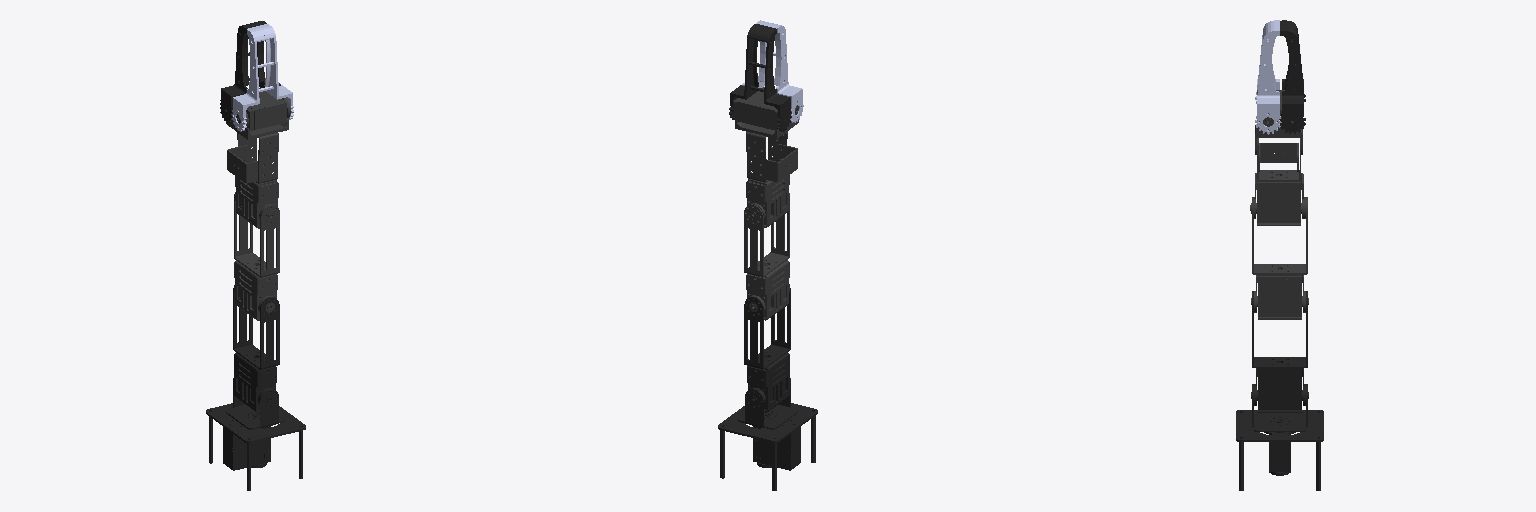
robot.urdf — robot_arm_description:
<?xml version="1.0" encoding="utf-8" ?>
<!-- This URDF was automatically created by SolidWorks to URDF Exporter! Originally created by Stephen Brawner (brawner@gmail.com) 
     Commit Version: 1.6.0-4-g7f85cfe  Build Version: 1.6.7995.38578
     For more information, please see http://wiki.ros.org/sw_urdf_exporter -->
<robot name="robot_arm_description">
    <link name="arm_base_link">
        <visual>
            <origin xyz="0 0 0" rpy="0 0 0" />
            <geometry>
                <mesh filename="package://robot_arm_description/meshes/arm_base_link.STL" />
            </geometry>
            <material name="">
                <color rgba="0.2 0.2 0.2 1" />
            </material>
        </visual>
        <collision>
            <origin xyz="0 0 0" rpy="0 0 0" />
            <geometry>
                <mesh filename="package://robot_arm_description/meshes/arm_base_link.STL" />
            </geometry>
        </collision>

    </link>
    <link name="arm_link1">
        <visual>
            <origin xyz="0 0 0" rpy="0 0 0" />
            <geometry>
                <mesh filename="package://robot_arm_description/meshes/arm_link1.STL" />
            </geometry>
            <material name="">
                <color rgba="0.2 0.2 0.2 1" />
            </material>
        </visual>
        <collision>
            <origin xyz="0 0 0" rpy="0 0 0" />
            <geometry>
                <mesh filename="package://robot_arm_description/meshes/arm_link1.STL" />
            </geometry>
        </collision>

    </link>
    <joint name="joint1" type="revolute">
        <origin xyz="0 0 0.0525" rpy="0 0 -0.0017827" />
        <parent link="arm_base_link" />
        <child link="arm_link1" />
        <axis xyz="0 0 -1" />
        <limit lower="-1.57" upper="1.57" effort="0" velocity="0" />
    </joint>
    <link name="arm_link2">
        <visual>
            <origin xyz="0 0 0" rpy="0 0 0" />
            <geometry>
                <mesh filename="package://robot_arm_description/meshes/arm_link2.STL" />
            </geometry>
            <material name="">
                <color rgba="0.2 0.2 0.2 1" />
            </material>
        </visual>
        <collision>
            <origin xyz="0 0 0" rpy="0 0 0" />
            <geometry>
                <mesh filename="package://robot_arm_description/meshes/arm_link2.STL" />
            </geometry>
        </collision>
    </link>
    <joint name="joint2" type="revolute">
        <origin xyz="0 0 0.02525" rpy="-1.5708 0 0" />
        <parent link="arm_link1" />
        <child link="arm_link2" />
        <axis xyz="-0.0017827 0 1" />
        <limit lower="-1.57" upper="1.57" effort="0" velocity="0" />
    </joint>
    <link name="arm_link3">
        <visual>
            <origin xyz="0 0 0" rpy="0 0 0" />
            <geometry>
                <mesh filename="package://robot_arm_description/meshes/arm_link3.STL" />
            </geometry>
            <material name="">
                <color rgba="0.298039215686275 0.298039215686275 0.298039215686275 1" />
            </material>
        </visual>
        <collision>
            <origin xyz="0 0 0" rpy="0 0 0" />
            <geometry>
                <mesh filename="package://robot_arm_description/meshes/arm_link3.STL" />
            </geometry>
        </collision>
        
<inertial>
            <mass value="0.1" />
            <inertia ixx="0.03" iyy="0.03" izz="0.03" ixy="0.0" ixz="0.0" iyz="0.0" />
        </inertial>

    </link>
    <joint name="joint3" type="revolute">
        <origin xyz="0.0005 -0.09315 0" rpy="0 0 0" />
        <parent link="arm_link2" />
        <child link="arm_link3" />
        <axis xyz="-0.0017827 0 1" />
        <limit lower="-2.355" upper="2.355" effort="0" velocity="0" />
    </joint>
    <link name="arm_link4">
        <visual>
            <origin xyz="0 0 0" rpy="0 0 0" />
            <geometry>
                <mesh filename="package://robot_arm_description/meshes/arm_link4.STL" />
            </geometry>
            <material name="">
                <color rgba="0.298039215686275 0.298039215686275 0.298039215686275 1" />
            </material>
        </visual>
        <collision>
            <origin xyz="0 0 0" rpy="0 0 0" />
            <geometry>
                <mesh filename="package://robot_arm_description/meshes/arm_link4.STL" />
            </geometry>
        </collision>
    </link>
    <joint name="joint4" type="revolute">
        <origin xyz="0.00050137 -0.09315 -0.00076869" rpy="0 -0.0017827 0" />
        <parent link="arm_link3" />
        <child link="arm_link4" />
        <axis xyz="0 0 1" />
        <limit lower="-2.355" upper="2.355" effort="0" velocity="0" />
    </joint>
    <link name="right_gripper_finger">
        <visual>
            <origin xyz="0 0 0" rpy="0 0 0" />
            <geometry>
                <mesh filename="package://robot_arm_description/meshes/right_gripper_finger.STL" />
            </geometry>
            <material name="">
                <color rgba="0.792156862745098 0.819607843137255 0.933333333333333 1" />
            </material>
        </visual>
        <collision>
            <origin xyz="0 0 0" rpy="0 0 0" />
            <geometry>
                <mesh filename="package://robot_arm_description/meshes/right_gripper_finger.STL" />
            </geometry>
        </collision>

    </link>
    <joint name="right_finger_joint" type="revolute">
        <origin xyz="0.000346699936491016 -0.0976630936564846 -0.00965000000000641" rpy="1.5707963267949 0 -1.57079632679491" />
        <parent link="arm_link4" />
        <child link="right_gripper_finger" />
        <axis xyz="0 0 1" />
        <limit lower="-0.785" upper="0" effort="0" velocity="1.57" />
    </joint>
    <link name="left_gripper_finger">
        <visual>
            <origin xyz="0 0 0" rpy="0 0 0" />
            <geometry>
                <mesh filename="package://robot_arm_description/meshes/left_gripper_finger.STL" />
            </geometry>
            <material name="">
                <color rgba="0.2 0.2 0.2 1" />
            </material>
        </visual>
        <collision>
            <origin xyz="0 0 0" rpy="0 0 0" />
            <geometry>
                <mesh filename="package://robot_arm_description/meshes/left_gripper_finger.STL" />
            </geometry>
        </collision>

    </link>
    <joint name="left_finger_joint" type="revolute">
        <origin xyz="0.000380830718078186 -0.0976500000000001 0.0121999999999936" rpy="1.5707963267949 0 -1.5707963267949" />
        <parent link="arm_link4" />
        <child link="left_gripper_finger" />
        <axis xyz="0 0 -1" />
        <limit lower="-0.785" upper="0" effort="0" velocity="1.57" />
    </joint>
    <link name="grasp_link" />
    <joint name="grasp_joint" type="fixed">
        <origin xyz="0 -0.18 0" rpy="0 0 0" />
        <parent link="arm_link4" />
        <child link="grasp_link" />
    </joint>
    
<transmission name="trans_joint1">
        <type>transmission_interface/SimpleTransmission</type>
        <joint name="joint1">
            <hardwareInterface>hardware_interface/EffortJointInterface</hardwareInterface>
        </joint>
        <actuator name="joint1_motor">
            <hardwareInterface>hardware_interface/EffortJointInterface</hardwareInterface>
            <mechanicalReduction>1</mechanicalReduction>
        </actuator>
    </transmission>
    <transmission name="trans_joint2">
        <type>transmission_interface/SimpleTransmission</type>
        <joint name="joint2">
            <hardwareInterface>hardware_interface/EffortJointInterface</hardwareInterface>
        </joint>
        <actuator name="joint2_motor">
            <hardwareInterface>hardware_interface/EffortJointInterface</hardwareInterface>
            <mechanicalReduction>1</mechanicalReduction>
        </actuator>
    </transmission>
    <transmission name="trans_joint3">
        <type>transmission_interface/SimpleTransmission</type>
        <joint name="joint3">
            <hardwareInterface>hardware_interface/EffortJointInterface</hardwareInterface>
        </joint>
        <actuator name="joint3_motor">
            <hardwareInterface>hardware_interface/EffortJointInterface</hardwareInterface>
            <mechanicalReduction>1</mechanicalReduction>
        </actuator>
    </transmission>
    <transmission name="trans_joint4">
        <type>transmission_interface/SimpleTransmission</type>
        <joint name="joint4">
            <hardwareInterface>hardware_interface/EffortJointInterface</hardwareInterface>
        </joint>
        <actuator name="joint4_motor">
            <hardwareInterface>hardware_interface/EffortJointInterface</hardwareInterface>
            <mechanicalReduction>1</mechanicalReduction>
        </actuator>
    </transmission>
    <transmission name="trans_right_finger_joint">
        <type>transmission_interface/SimpleTransmission</type>
        <joint name="right_finger_joint">
            <hardwareInterface>hardware_interface/EffortJointInterface</hardwareInterface>
        </joint>
        <actuator name="right_finger_joint_motor">
            <hardwareInterface>hardware_interface/EffortJointInterface</hardwareInterface>
            <mechanicalReduction>1</mechanicalReduction>
        </actuator>
    </transmission>
    <transmission name="trans_left_finger_joint">
        <type>transmission_interface/SimpleTransmission</type>
        <joint name="left_finger_joint">
            <hardwareInterface>hardware_interface/EffortJointInterface</hardwareInterface>
        </joint>
        <actuator name="left_finger_joint_motor">
            <hardwareInterface>hardware_interface/EffortJointInterface</hardwareInterface>
            <mechanicalReduction>1</mechanicalReduction>
        </actuator>
    </transmission>
    <gazebo>
        <plugin name="gazebo_ros_control" filename="libgazebo_ros_control.so">
            <robotNamespace>/</robotNamespace>
        </plugin>
    </gazebo>
    <transmission name="trans_joint1">
        <type>transmission_interface/SimpleTransmission</type>
        <joint name="joint1">
            <hardwareInterface>hardware_interface/EffortJointInterface</hardwareInterface>
        </joint>
        <actuator name="joint1_motor">
            <hardwareInterface>hardware_interface/EffortJointInterface</hardwareInterface>
            <mechanicalReduction>1</mechanicalReduction>
        </actuator>
    </transmission>
    <transmission name="trans_joint2">
        <type>transmission_interface/SimpleTransmission</type>
        <joint name="joint2">
            <hardwareInterface>hardware_interface/EffortJointInterface</hardwareInterface>
        </joint>
        <actuator name="joint2_motor">
            <hardwareInterface>hardware_interface/EffortJointInterface</hardwareInterface>
            <mechanicalReduction>1</mechanicalReduction>
        </actuator>
    </transmission>
    <transmission name="trans_joint3">
        <type>transmission_interface/SimpleTransmission</type>
        <joint name="joint3">
            <hardwareInterface>hardware_interface/EffortJointInterface</hardwareInterface>
        </joint>
        <actuator name="joint3_motor">
            <hardwareInterface>hardware_interface/EffortJointInterface</hardwareInterface>
            <mechanicalReduction>1</mechanicalReduction>
        </actuator>
    </transmission>
    <transmission name="trans_joint4">
        <type>transmission_interface/SimpleTransmission</type>
        <joint name="joint4">
            <hardwareInterface>hardware_interface/EffortJointInterface</hardwareInterface>
        </joint>
        <actuator name="joint4_motor">
            <hardwareInterface>hardware_interface/EffortJointInterface</hardwareInterface>
            <mechanicalReduction>1</mechanicalReduction>
        </actuator>
    </transmission>
    <transmission name="trans_right_finger_joint">
        <type>transmission_interface/SimpleTransmission</type>
        <joint name="right_finger_joint">
            <hardwareInterface>hardware_interface/EffortJointInterface</hardwareInterface>
        </joint>
        <actuator name="right_finger_joint_motor">
            <hardwareInterface>hardware_interface/EffortJointInterface</hardwareInterface>
            <mechanicalReduction>1</mechanicalReduction>
        </actuator>
    </transmission>
    <transmission name="trans_left_finger_joint">
        <type>transmission_interface/SimpleTransmission</type>
        <joint name="left_finger_joint">
            <hardwareInterface>hardware_interface/EffortJointInterface</hardwareInterface>
        </joint>
        <actuator name="left_finger_joint_motor">
            <hardwareInterface>hardware_interface/EffortJointInterface</hardwareInterface>
            <mechanicalReduction>1</mechanicalReduction>
        </actuator>
    </transmission>
    <gazebo>
        <plugin name="gazebo_ros_control" filename="libgazebo_ros_control.so">
            <robotNamespace>/</robotNamespace>
        </plugin>
    </gazebo>
</robot>

--- What the picture shows (computed from the rendered views, not written in the file) ---
3 views of the same robot in one strip: view 1: azimuth 30°, elevation 25°; view 2: azimuth 150°, elevation 25°; view 3: azimuth 270°, elevation 25° (orthographic).
Model robot_arm_description with 8 links and 7 joints (6 revolute, 1 fixed), rooted at arm_base_link, posed all joints at 0.
Visible links, largest first — view 1: arm_link4, arm_link2, arm_link3, arm_base_link, right_gripper_finger, left_gripper_finger, arm_link1; view 2: arm_link4, arm_link2, arm_link3, arm_base_link, left_gripper_finger, right_gripper_finger, arm_link1; view 3: arm_link4, arm_link2, arm_link3, arm_base_link, left_gripper_finger, right_gripper_finger, arm_link1.
Link boxes in pixels (x1,y1,x2,y2): arm_link4: (226, 88, 290, 228); arm_link2: (233, 285, 279, 412); arm_link3: (234, 192, 279, 320); arm_base_link: (206, 403, 305, 490); right_gripper_finger: (231, 24, 293, 131); left_gripper_finger: (220, 21, 280, 122); arm_link1: (226, 378, 285, 429); arm_link4: (734, 87, 798, 227); arm_link2: (744, 284, 790, 412); arm_link3: (744, 193, 789, 320); arm_base_link: (718, 403, 817, 490); left_gripper_finger: (729, 24, 791, 131); right_gripper_finger: (742, 20, 803, 122); arm_link1: (738, 378, 797, 429); arm_link4: (1250, 90, 1305, 225); arm_link2: (1251, 291, 1308, 412); arm_link3: (1251, 197, 1308, 319); arm_base_link: (1236, 410, 1323, 490); left_gripper_finger: (1280, 20, 1305, 133); right_gripper_finger: (1255, 20, 1281, 134); arm_link1: (1252, 384, 1307, 432).
Size in the robot's own frame: 0.0651 by 0.0801 by 0.4491 metres.
7 mesh visuals loaded from 7 distinct referenced files (7 binary STL).
